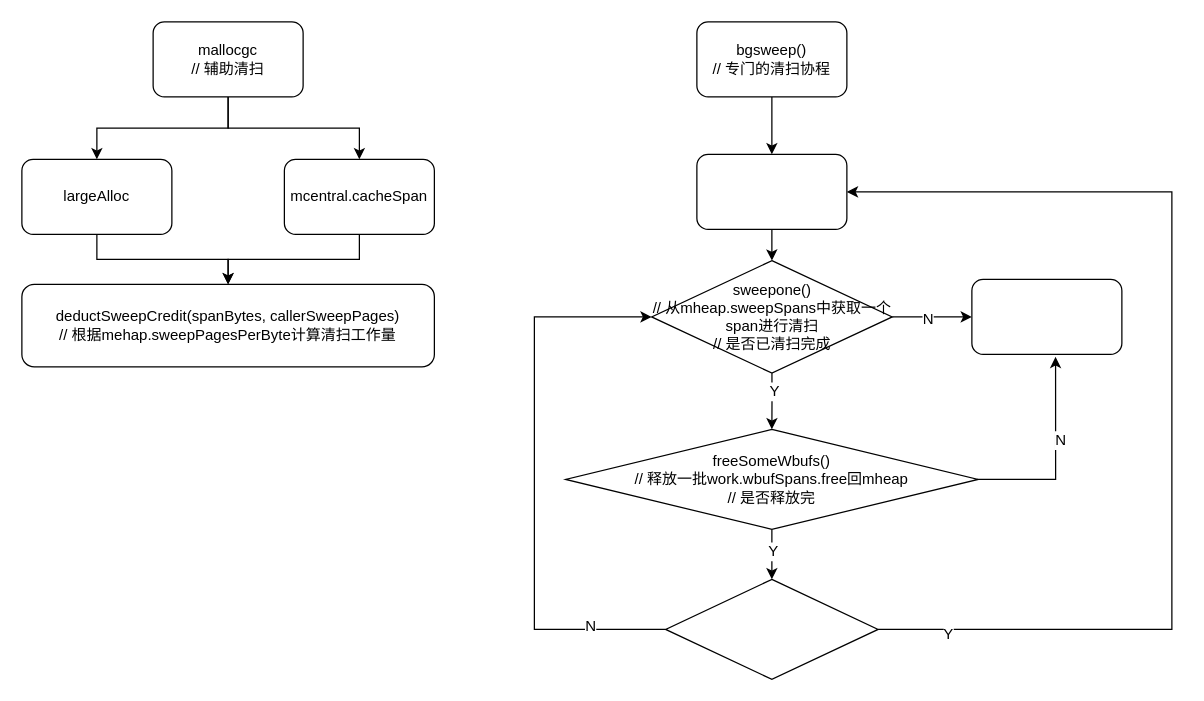
Some shapes in this 1204 by 701 pixel diagram are drawn without their labels. Each missing label, with the centre of its shape:
"!isSweepDone() // 判断是否清扫完成" belongs at [771,628].
"goparkunlock()" belongs at [771,191].
"Gosched() // 挂起，运行其他 g" belongs at [1046,316].
